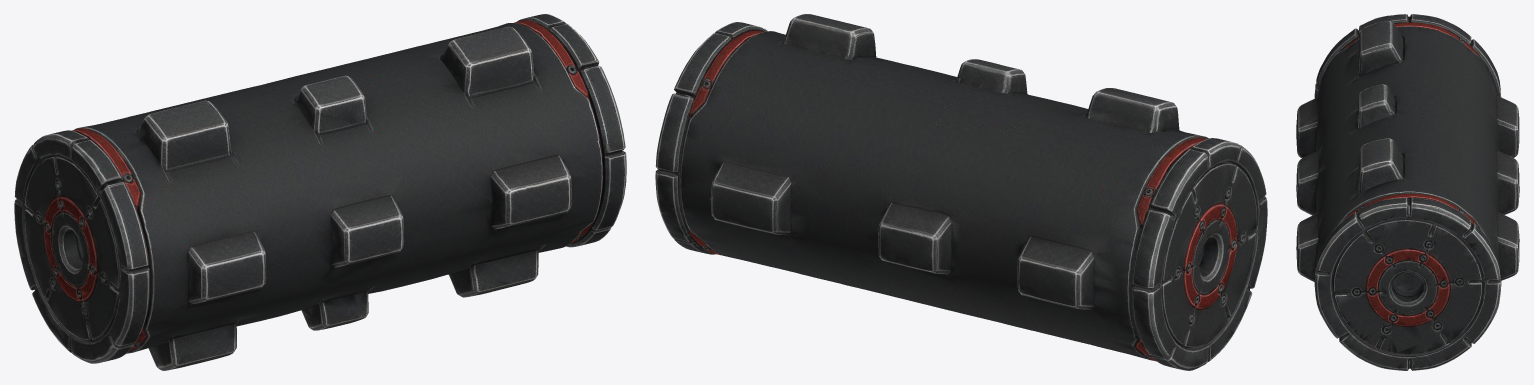
Rendered from drum_spinner.glb.
3 renders of one model, left to right at view 1: azimuth 30°, elevation 25°; view 2: azimuth 150°, elevation 25°; view 3: azimuth 270°, elevation 25°, orthographic. The views are drawn at different scales.
Parts seen in each view (by area): view 1: mesh_node; view 2: mesh_node; view 3: mesh_node.
Boxes of the visible parts, x1,y1,x2,y2 form: mesh_node: (14, 14, 626, 370); mesh_node: (655, 14, 1267, 370); mesh_node: (1296, 14, 1519, 370).
Size of the model in its own units: 1.9 by 0.9028 by 0.9281.
Materials: 1 (1 with a texture image).
